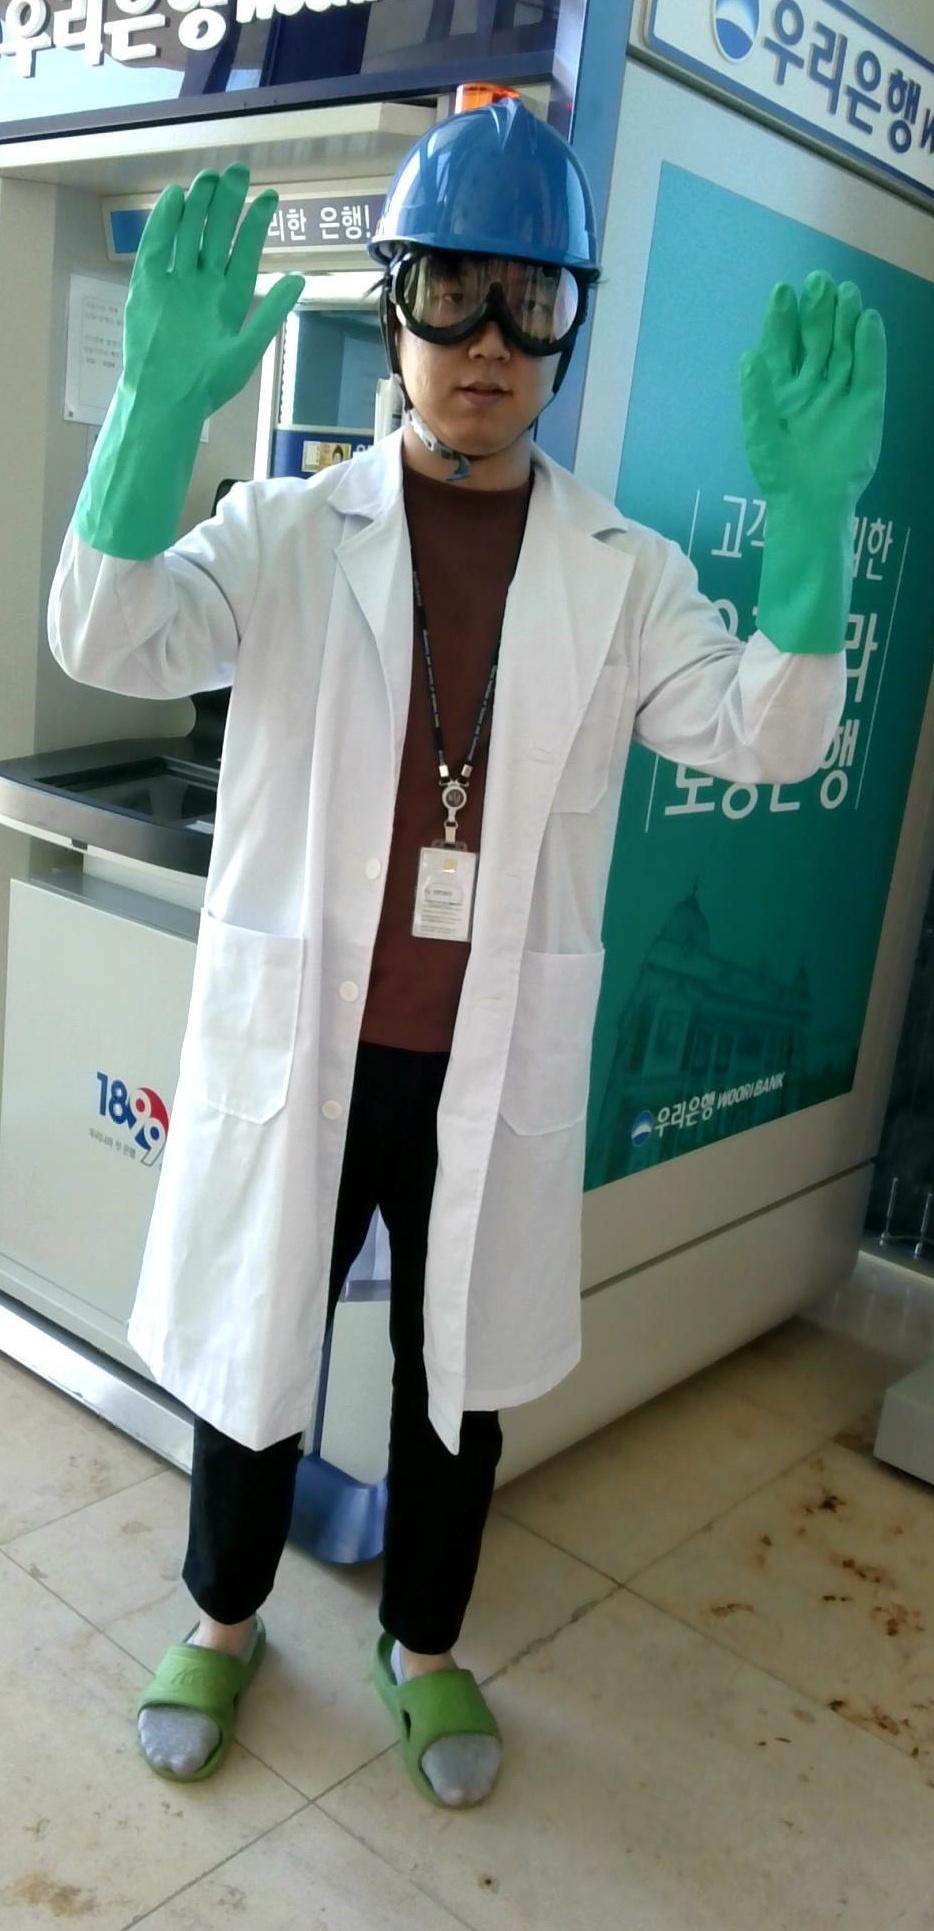lab_coat: (129, 560, 697, 1433)
